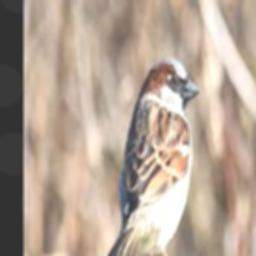Sparrow: (98, 56, 200, 256)
